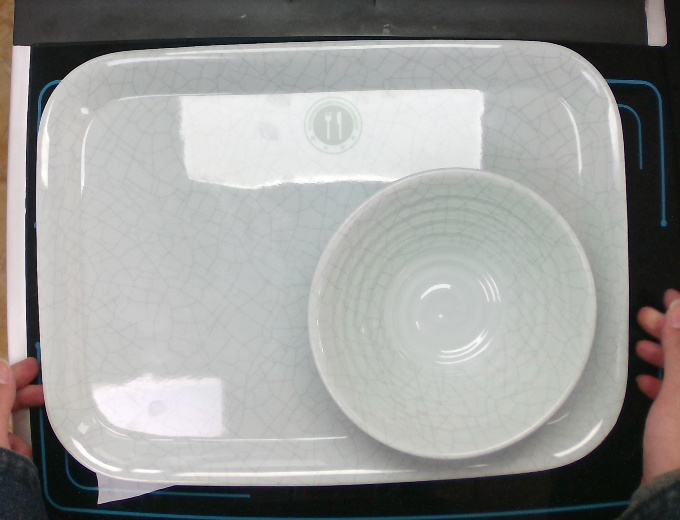JYsf-Xiao_Tang_Wan: (308, 168, 599, 465)
